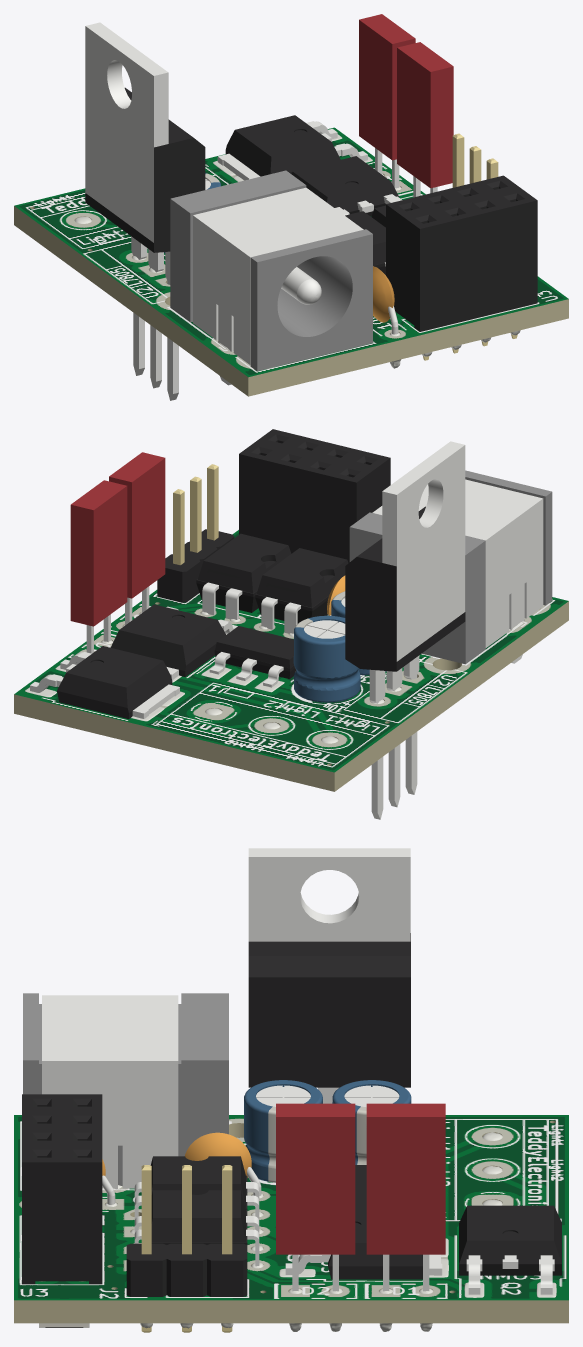
Rendered from 2Lights_V3.glb.
3 views of the same model, one above another, from view 1: azimuth 30°, elevation 25°; view 2: azimuth 150°, elevation 25°; view 3: azimuth 270°, elevation 25° (orthographic). The views are drawn at different scales.
Parts seen in each view (by area): view 1: BarrelJack_CUI_PJ-063AH_Horizontal, PCB_2Lights_V3, TO-220-3_Vertical, PinSocket_2x04_P2.54mm_Vertical, LED_Rectangular_W5.0mm_H2.0mm.001, TO-252-2.001, LED_Rectangular_W5.0mm_H2.0mm, TO-252-2, PinHeader_1x03_P2.54mm_Vertical, C_Disc_D4.3mm_W1.9mm_P5.00mm, DIP-4_W7.62mm; view 2: PCB_2Lights_V3, TO-220-3_Vertical, BarrelJack_CUI_PJ-063AH_Horizontal, PinSocket_2x04_P2.54mm_Vertical, LED_Rectangular_W5.0mm_H2.0mm, TO-252-2.001, LED_Rectangular_W5.0mm_H2.0mm.001, TO-252-2, DIP-4_W7.62mm, PinHeader_1x03_P2.54mm_Vertical, DIP-4_W7.62mm.001, CP_Radial_D5.0mm_P2.50mm (+1 smaller); view 3: PCB_2Lights_V3, TO-220-3_Vertical, BarrelJack_CUI_PJ-063AH_Horizontal, PinSocket_2x04_P2.54mm_Vertical, LED_Rectangular_W5.0mm_H2.0mm.001, LED_Rectangular_W5.0mm_H2.0mm, PinHeader_1x03_P2.54mm_Vertical, TO-252-2.001, DIP-4_W7.62mm.001, CP_Radial_D5.0mm_P2.50mm.001, TO-252-2, DIP-4_W7.62mm (+2 smaller).
Boxes of the visible parts, bbox=[...] form: BarrelJack_CUI_PJ-063AH_Horizontal: bbox=[170, 170, 372, 385]; PCB_2Lights_V3: bbox=[14, 127, 568, 396]; TO-220-3_Vertical: bbox=[85, 22, 205, 400]; PinSocket_2x04_P2.54mm_Vertical: bbox=[386, 175, 537, 360]; LED_Rectangular_W5.0mm_H2.0mm.001: bbox=[397, 42, 453, 197]; TO-252-2.001: bbox=[217, 115, 367, 180]; LED_Rectangular_W5.0mm_H2.0mm: bbox=[359, 14, 415, 188]; TO-252-2: bbox=[291, 156, 402, 216]; PinHeader_1x03_P2.54mm_Vertical: bbox=[452, 133, 498, 187]; C_Disc_D4.3mm_W1.9mm_P5.00mm: bbox=[373, 266, 398, 334]; DIP-4_W7.62mm: bbox=[345, 211, 385, 274]; PCB_2Lights_V3: bbox=[14, 530, 568, 791]; TO-220-3_Vertical: bbox=[345, 441, 465, 819]; BarrelJack_CUI_PJ-063AH_Horizontal: bbox=[349, 470, 552, 664]; PinSocket_2x04_P2.54mm_Vertical: bbox=[239, 429, 390, 562]; LED_Rectangular_W5.0mm_H2.0mm: bbox=[70, 480, 127, 653]; TO-252-2.001: bbox=[30, 646, 179, 719]; LED_Rectangular_W5.0mm_H2.0mm.001: bbox=[109, 452, 165, 625]; TO-252-2: bbox=[110, 604, 237, 680]; DIP-4_W7.62mm: bbox=[255, 548, 348, 633]; PinHeader_1x03_P2.54mm_Vertical: bbox=[157, 464, 234, 602]; DIP-4_W7.62mm.001: bbox=[196, 533, 291, 619]; CP_Radial_D5.0mm_P2.50mm: bbox=[293, 615, 360, 702]; PCB_2Lights_V3: bbox=[14, 1115, 568, 1323]; TO-220-3_Vertical: bbox=[248, 848, 410, 1103]; BarrelJack_CUI_PJ-063AH_Horizontal: bbox=[23, 993, 228, 1189]; PinSocket_2x04_P2.54mm_Vertical: bbox=[22, 1094, 102, 1284]; LED_Rectangular_W5.0mm_H2.0mm.001: bbox=[276, 1103, 355, 1291]; LED_Rectangular_W5.0mm_H2.0mm: bbox=[366, 1103, 445, 1291]; PinHeader_1x03_P2.54mm_Vertical: bbox=[126, 1165, 247, 1332]; TO-252-2.001: bbox=[459, 1205, 561, 1294]; DIP-4_W7.62mm.001: bbox=[134, 1190, 259, 1266]; CP_Radial_D5.0mm_P2.50mm.001: bbox=[244, 1080, 322, 1182]; TO-252-2: bbox=[285, 1206, 442, 1279]; DIP-4_W7.62mm: bbox=[134, 1156, 259, 1219].
Size of the model in its own units: 0.0277 by 0.0285 by 0.0351.
14 materials, 2 textured.
